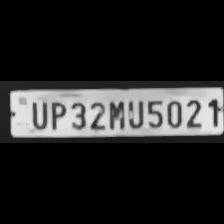0: (164, 96, 182, 128)
1: (204, 96, 222, 128)
2: (182, 96, 204, 128), (87, 98, 105, 130)
3: (68, 99, 86, 129)
5: (145, 97, 163, 128)
M: (106, 98, 124, 130)
P: (47, 99, 66, 129)
U: (27, 98, 47, 130), (126, 97, 144, 128)
